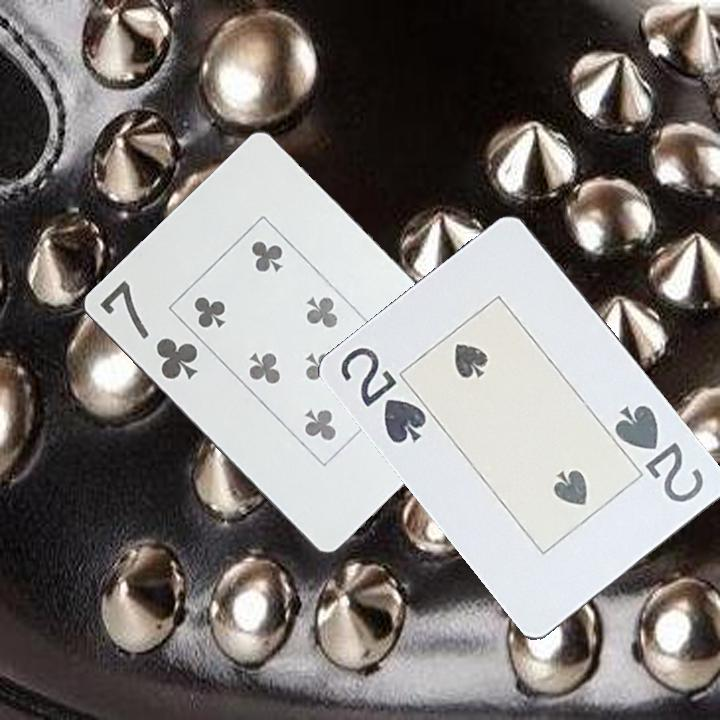2s: (611, 401, 708, 506), (337, 343, 430, 447)
7c: (95, 276, 201, 383)
